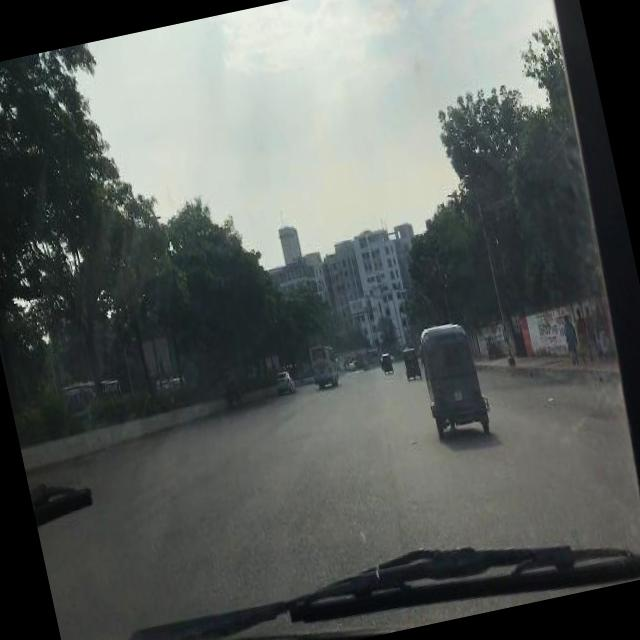bus: (59, 370, 124, 416), (308, 343, 341, 386), (154, 370, 188, 394)
car: (274, 368, 298, 396)
motorcycle: (414, 316, 492, 436), (402, 344, 422, 376), (380, 352, 394, 372)
